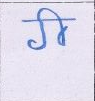i_matra: (42, 7, 69, 47)
